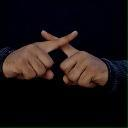hand: (1, 29, 78, 80), (41, 30, 109, 87)
